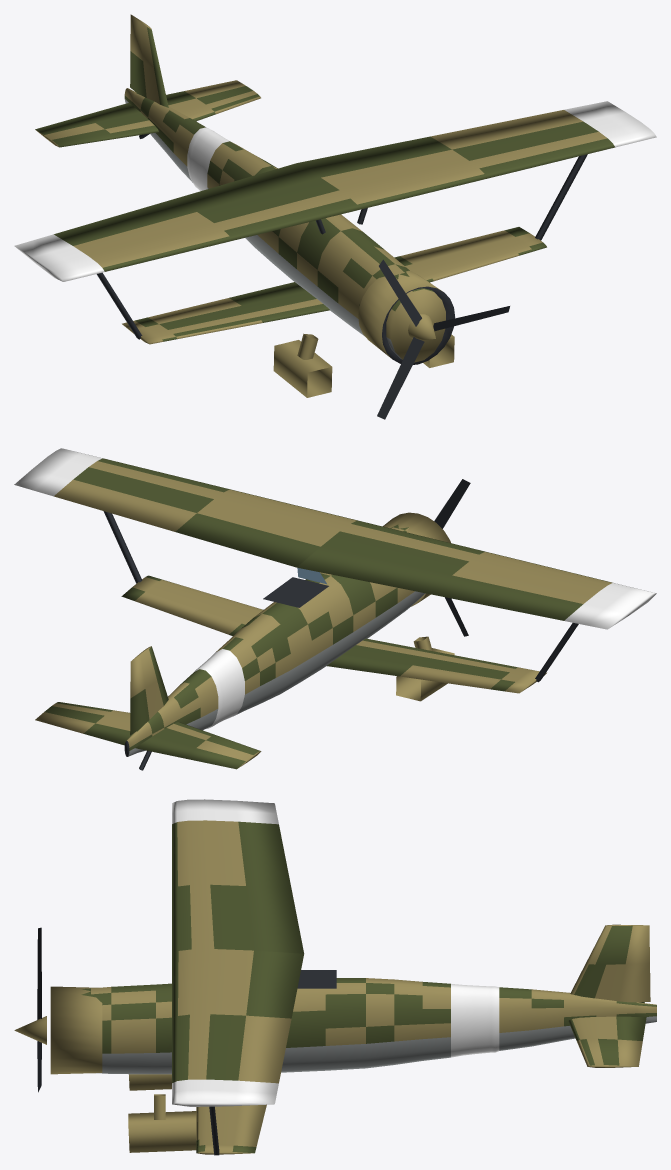
3 views of the same model, one above another, from view 1: azimuth 30°, elevation 25°; view 2: azimuth 150°, elevation 25°; view 3: azimuth 270°, elevation 25° (orthographic). The views are drawn at different scales.
Visible parts, largest first — view 1: body, prop; view 2: body, prop; view 3: body, prop.
Boxes of the visible parts, <box> form: body: <box>14,14,656,397</box>; prop: <box>377,259,509,419</box>; body: <box>14,448,656,770</box>; prop: <box>434,479,470,636</box>; body: <box>50,799,656,1155</box>; prop: <box>14,927,46,1092</box>.
Bounding box in the file's own units: 9.7 × 2.86 × 8.75.
